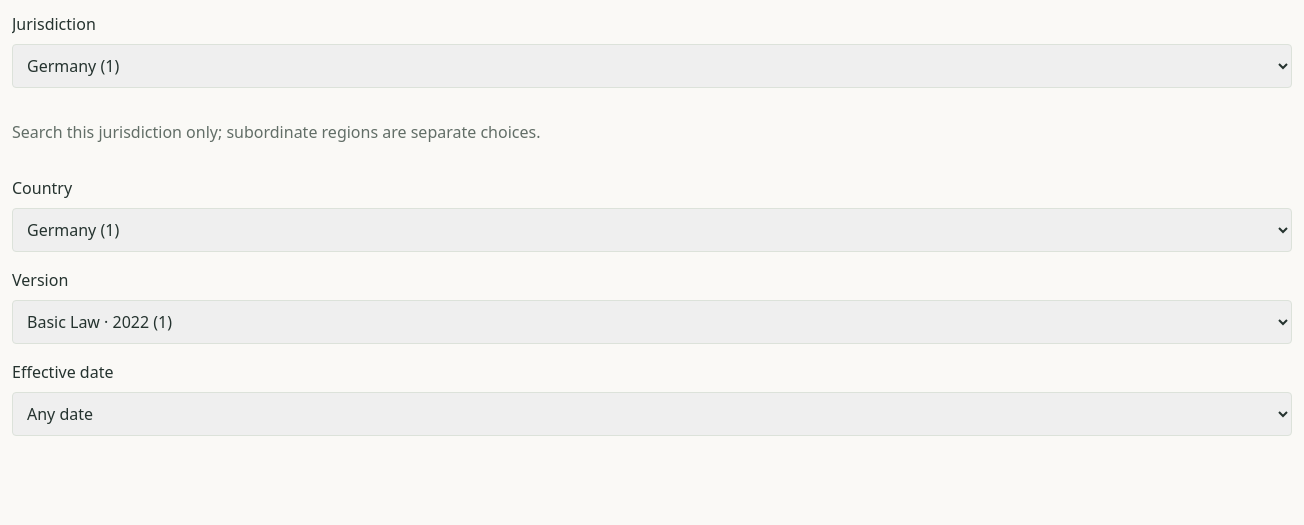
submits only compatible owner/version fields after switching from a country to a historical region
Select "Historical region · Historical jurisdiction (1)" in the dropdown named "jurisdictionId" at [652, 66], box x1=12 y1=44 x2=1292 y2=88
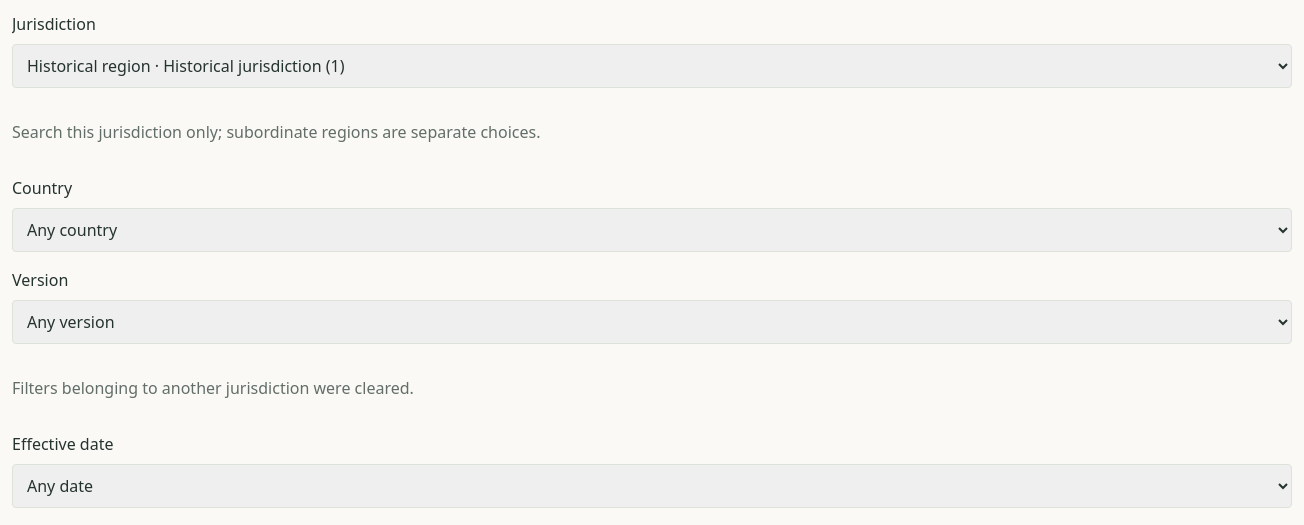
Check: the message "Filters belonging to another jurisdiction were cleared." is shown, box x1=12 y1=377 x2=414 y2=399
